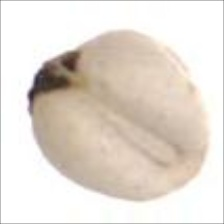L5: (77, 87, 192, 176), (23, 47, 91, 120), (166, 144, 207, 190)
L6: (25, 27, 214, 204)
